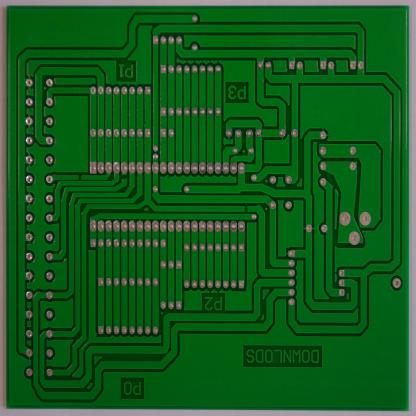open_circuit: (75, 172, 83, 182), (242, 204, 250, 214), (121, 172, 128, 181)
